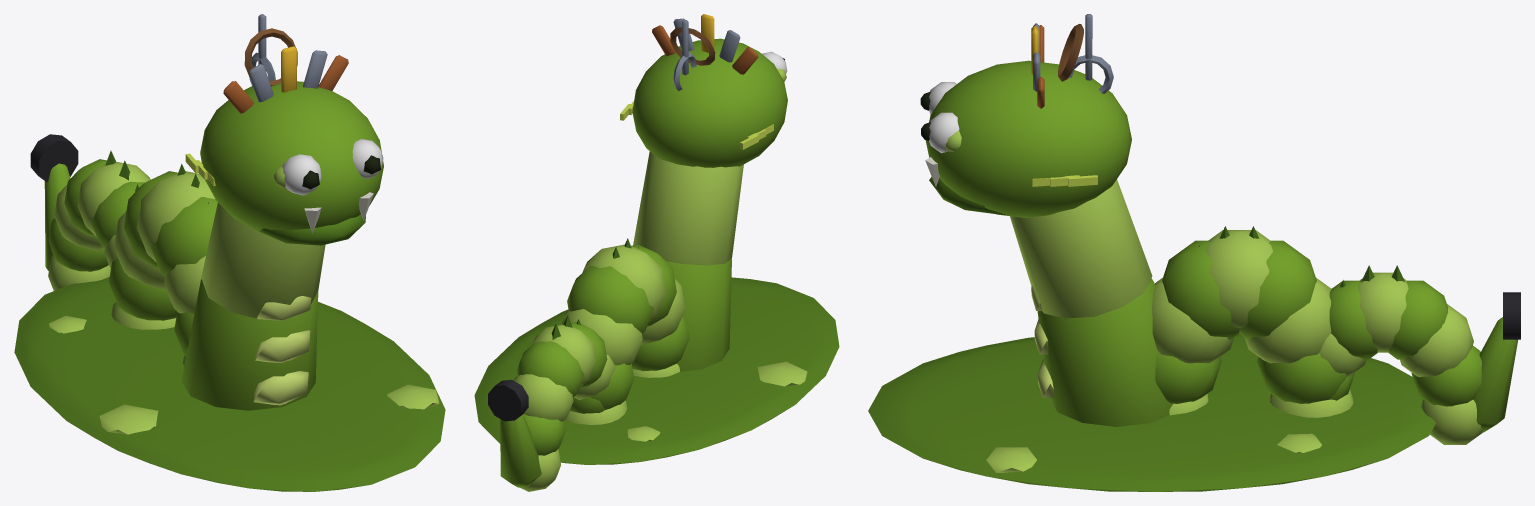
The model's file is e_boss_leviathan.glb.
The picture shows the model from 3 angles, left to right: view 1: azimuth 30°, elevation 25°; view 2: azimuth 150°, elevation 25°; view 3: azimuth 270°, elevation 25°; orthographic projection. The views are drawn at different scales.
Visible parts, largest first — view 1: pool, neck, head, arc_a, arc_b, crown, tail, eyes, jaw; view 2: pool, neck, head, arc_a, arc_b, tail, crown, gills_glow; view 3: pool, arc_a, neck, head, arc_b, tail, crown, eyes, jaw.
Part boxes in pixels (left/top/right/bottom): pool: left=14, top=277, right=445, bottom=491; neck: left=181, top=202, right=325, bottom=410; head: left=200, top=81, right=383, bottom=233; arc_a: left=109, top=163, right=217, bottom=365; arc_b: left=48, top=150, right=150, bottom=290; crown: left=223, top=14, right=348, bottom=113; tail: left=30, top=134, right=78, bottom=270; eyes: left=282, top=139, right=383, bottom=195; jaw: left=258, top=214, right=365, bottom=245; pool: left=474, top=277, right=839, bottom=464; neck: left=633, top=151, right=743, bottom=371; head: left=632, top=38, right=787, bottom=167; arc_a: left=561, top=238, right=689, bottom=424; arc_b: left=514, top=315, right=615, bottom=491; tail: left=488, top=379, right=541, bottom=487; crown: left=652, top=14, right=758, bottom=91; gills_glow: left=620, top=101, right=773, bottom=149; pool: left=868, top=333, right=1435, bottom=491; arc_a: left=1152, top=226, right=1353, bottom=417; neck: left=1010, top=179, right=1172, bottom=426; head: left=925, top=60, right=1131, bottom=217; arc_b: left=1319, top=265, right=1483, bottom=444; tail: left=1473, top=292, right=1520, bottom=432; crown: left=1031, top=14, right=1113, bottom=108; eyes: left=920, top=82, right=959, bottom=153; jaw: left=929, top=177, right=1006, bottom=215.
Size of the model in its own units: 6.4 by 8.09 by 10.9.
